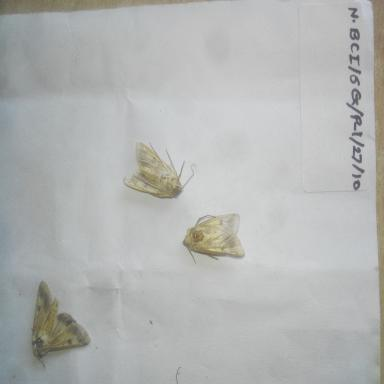abw: (29, 277, 92, 373), (120, 136, 199, 201), (180, 209, 247, 267)
